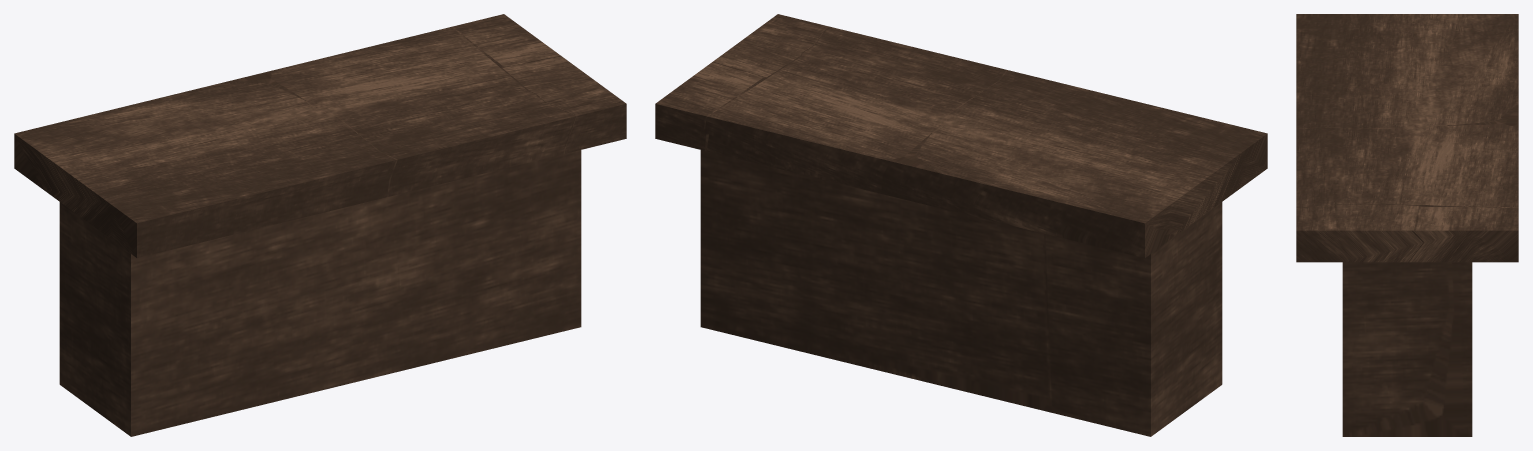
The model's file is counter.fbx.
The picture shows the model from 3 angles, left to right: view 1: azimuth 30°, elevation 25°; view 2: azimuth 150°, elevation 25°; view 3: azimuth 270°, elevation 25°; orthographic projection. The views are drawn at different scales.
Visible parts, largest first — view 1: kitchen_counter; view 2: kitchen_counter; view 3: kitchen_counter.
Boxes of the visible parts, x1,y1,x2,y2 form: kitchen_counter: (14, 14, 626, 436); kitchen_counter: (655, 14, 1267, 436); kitchen_counter: (1296, 14, 1518, 436).
Size of the model in its own units: 218 by 101 by 94.8.
